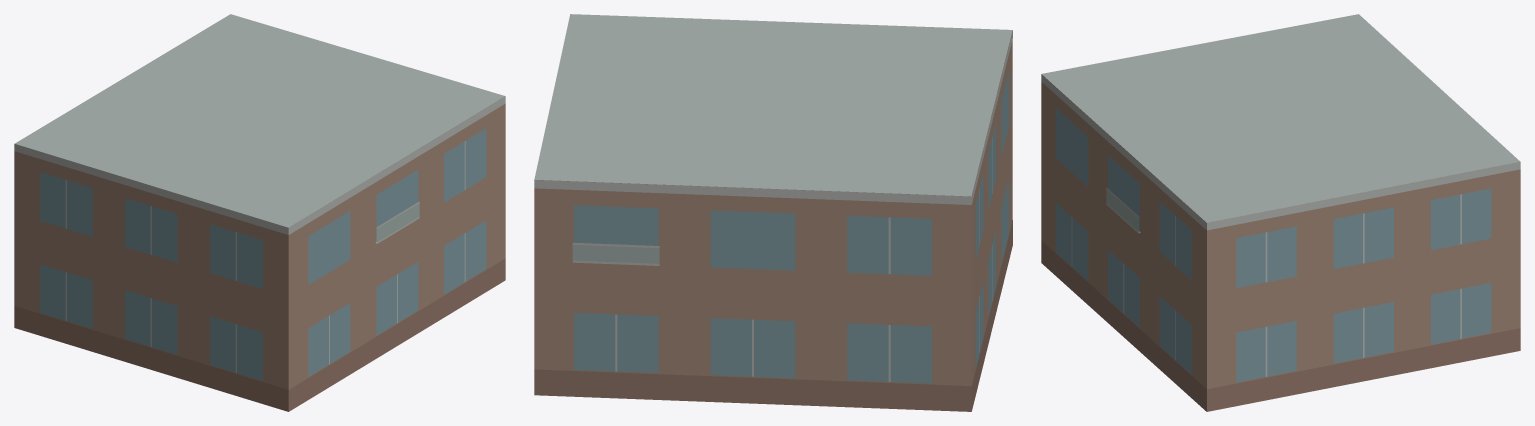
The model's file is survey-upis-32613500.glb.
3 renders of one model, left to right at view 1: azimuth 30°, elevation 25°; view 2: azimuth 150°, elevation 25°; view 3: azimuth 270°, elevation 25°, orthographic. The views are drawn at different scales.
Visible parts, largest first — view 1: survey-upis-32613500.tmp; view 2: survey-upis-32613500.tmp; view 3: survey-upis-32613500.tmp.
Boxes of the visible parts, x1=… form: survey-upis-32613500.tmp: x1=14, y1=14, x2=505, y2=411; survey-upis-32613500.tmp: x1=534, y1=14, x2=1012, y2=411; survey-upis-32613500.tmp: x1=1041, y1=14, x2=1520, y2=411.
Bounding box in the file's own units: 14.47 × 6.1 × 14.03.
